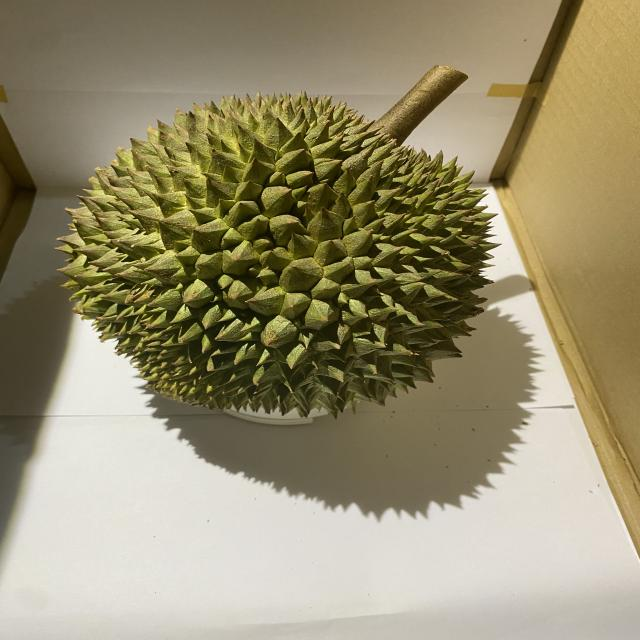immature: (53, 91, 498, 424)
